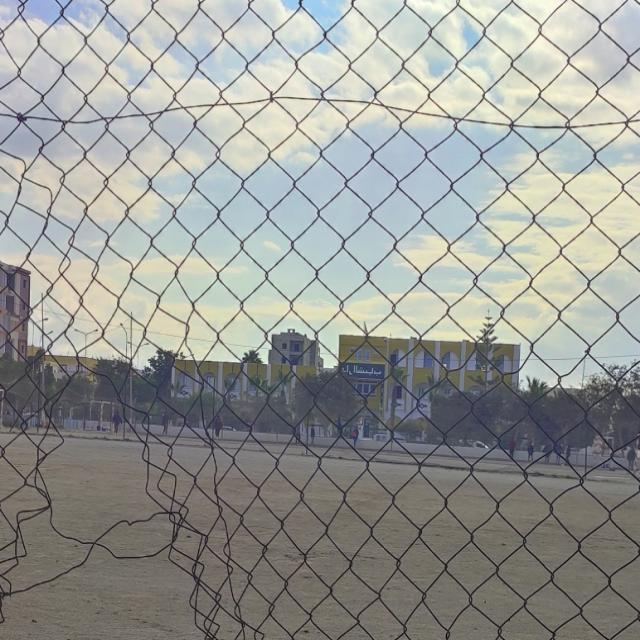fence line: (8, 357, 215, 632)
